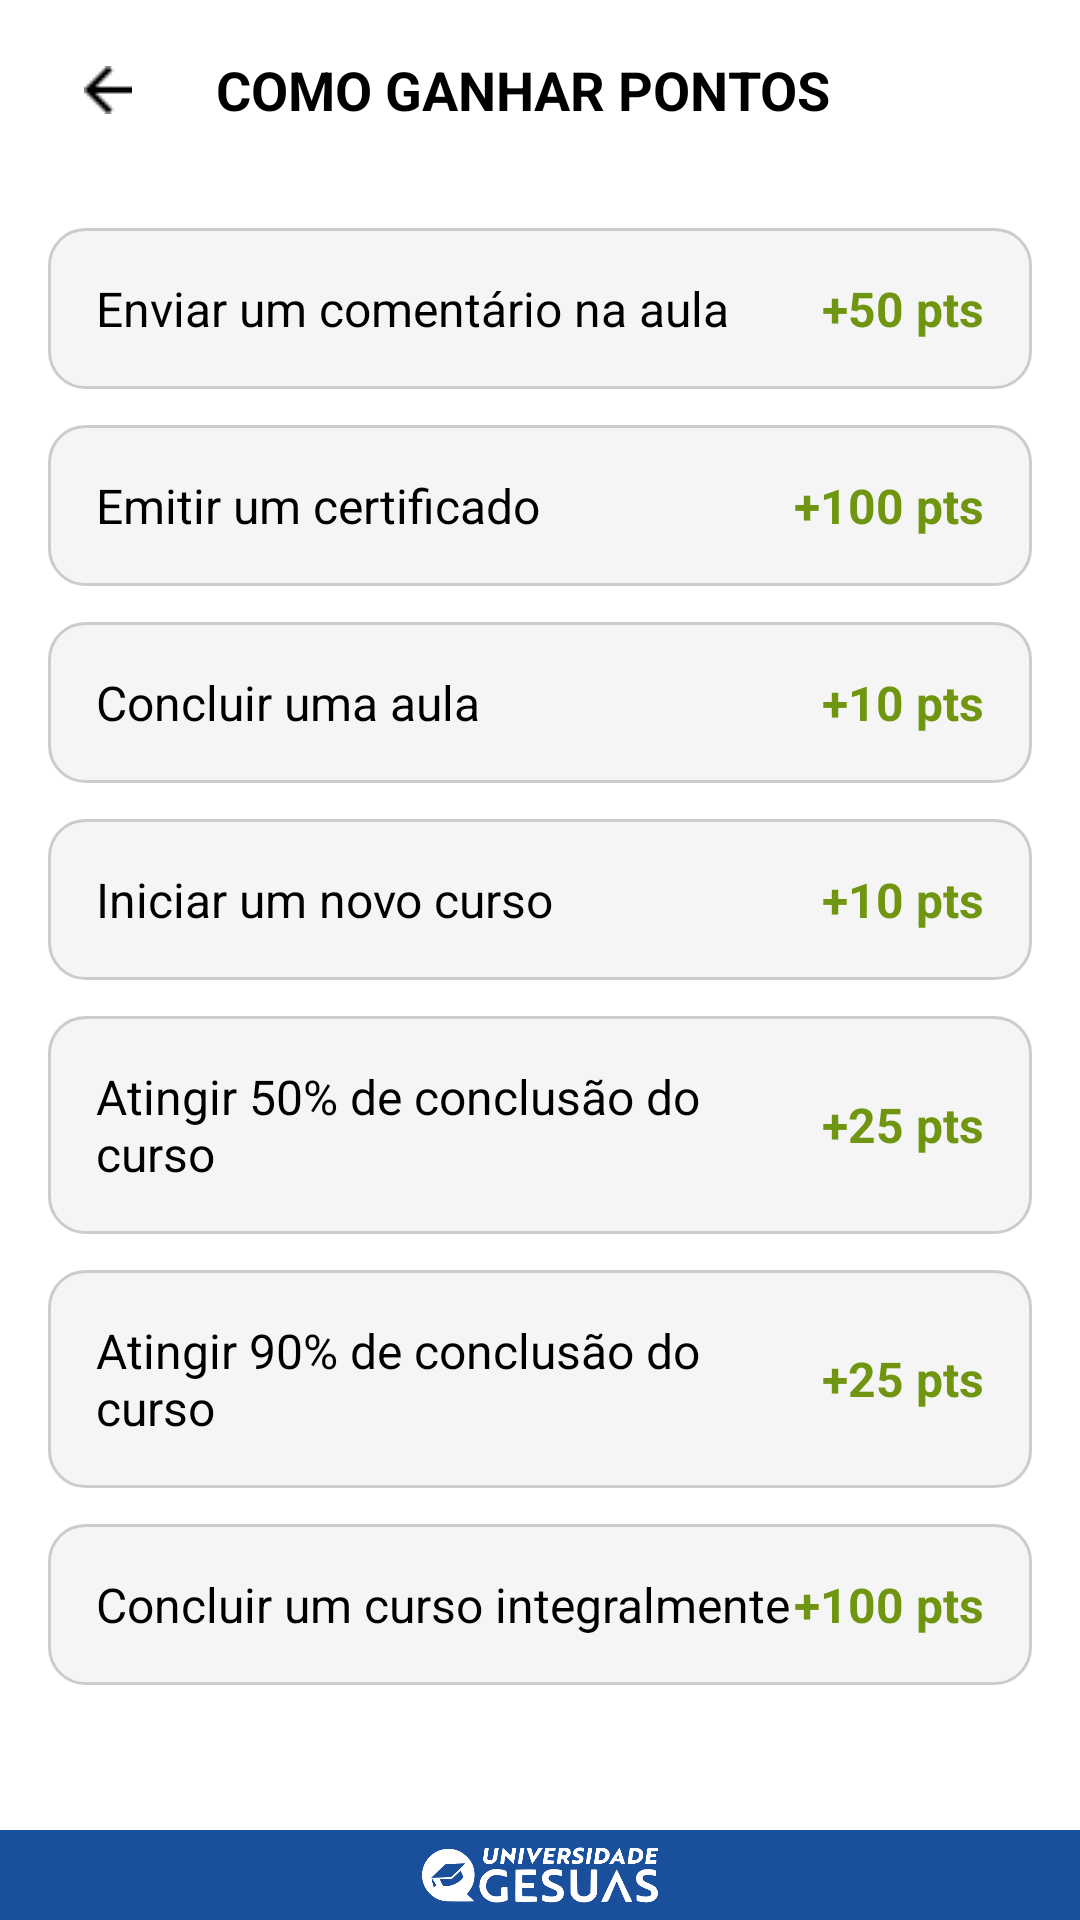

Icon bounding boxes for this 1080x1920 phone screenshot, format (x1, y1, x2, y2):
Voltar: (84, 66, 132, 114)
